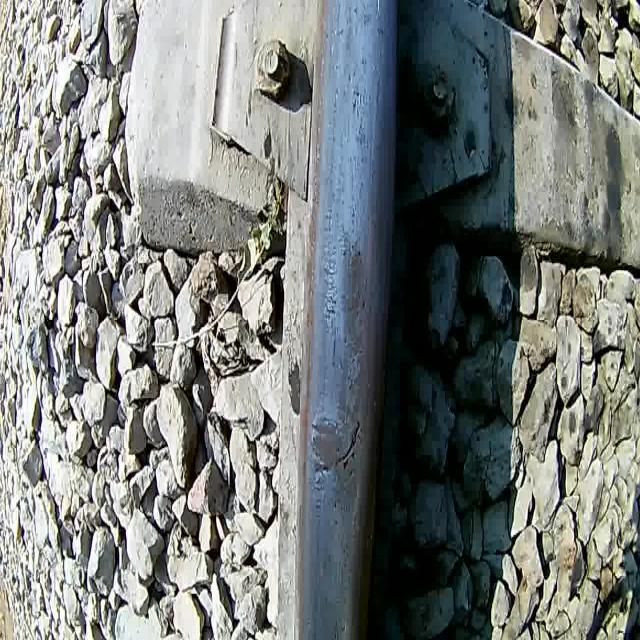Squats: (337, 226, 373, 364), (306, 410, 344, 480)
